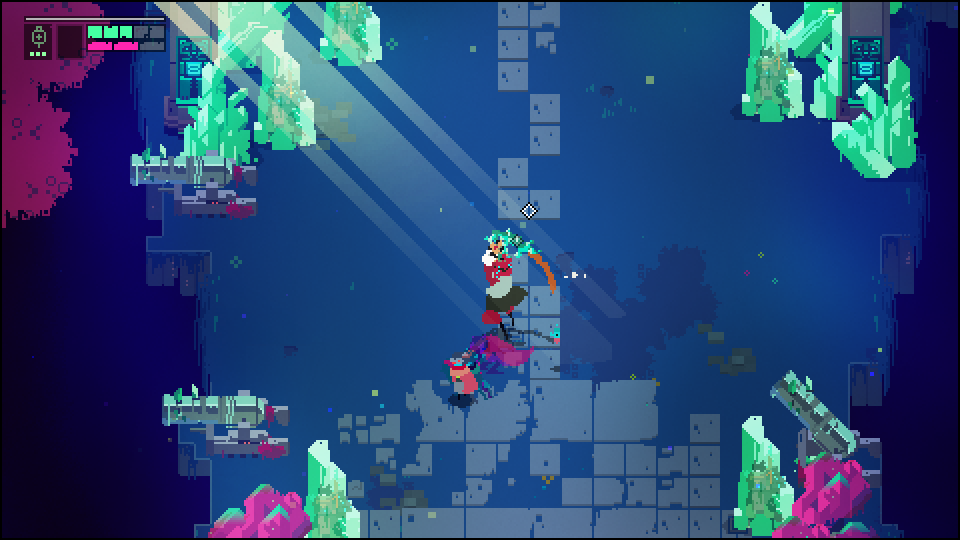hanged_man: (471, 224, 552, 346)
player: (445, 357, 477, 405)
